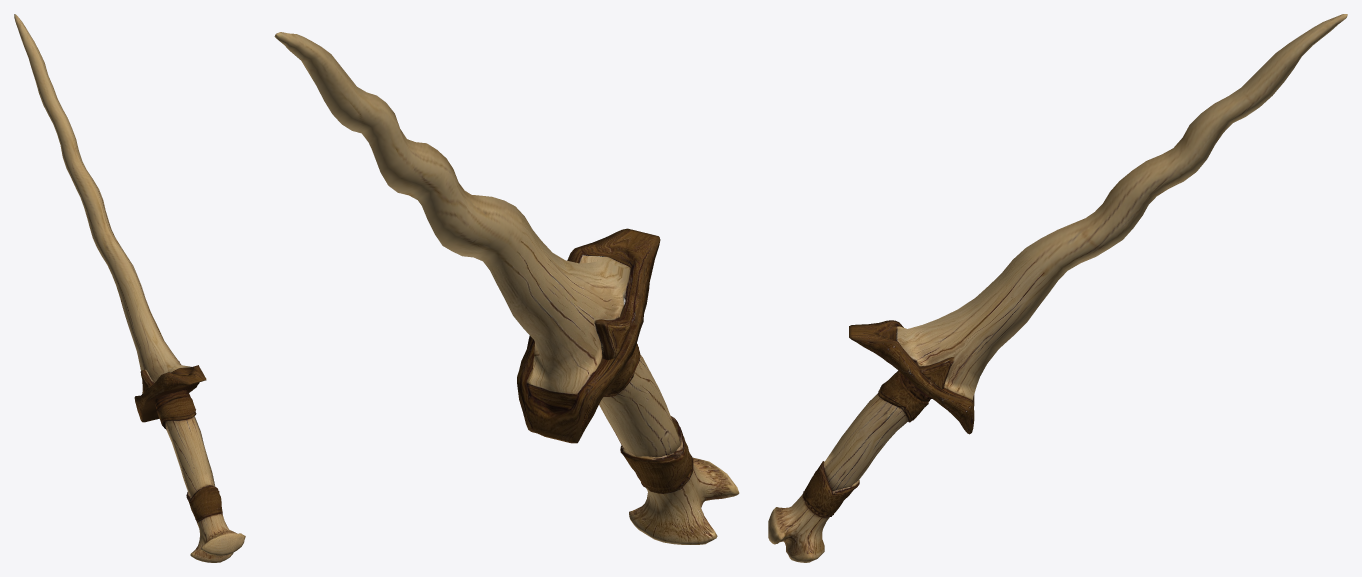
File: krysknife.glb
The picture shows the model from 3 angles, left to right: view 1: azimuth 30°, elevation 25°; view 2: azimuth 150°, elevation 25°; view 3: azimuth 270°, elevation 25°; orthographic projection. The views are drawn at different scales.
Visible parts, largest first — view 1: world; view 2: world; view 3: world.
Part boxes in pixels (x1,y1,x2,y2): world: [14, 14, 245, 562]; world: [274, 32, 739, 544]; world: [768, 14, 1347, 562].
Size of the model in its own units: 0.123 by 0.998 by 0.9668.
1 material, 1 textured.
